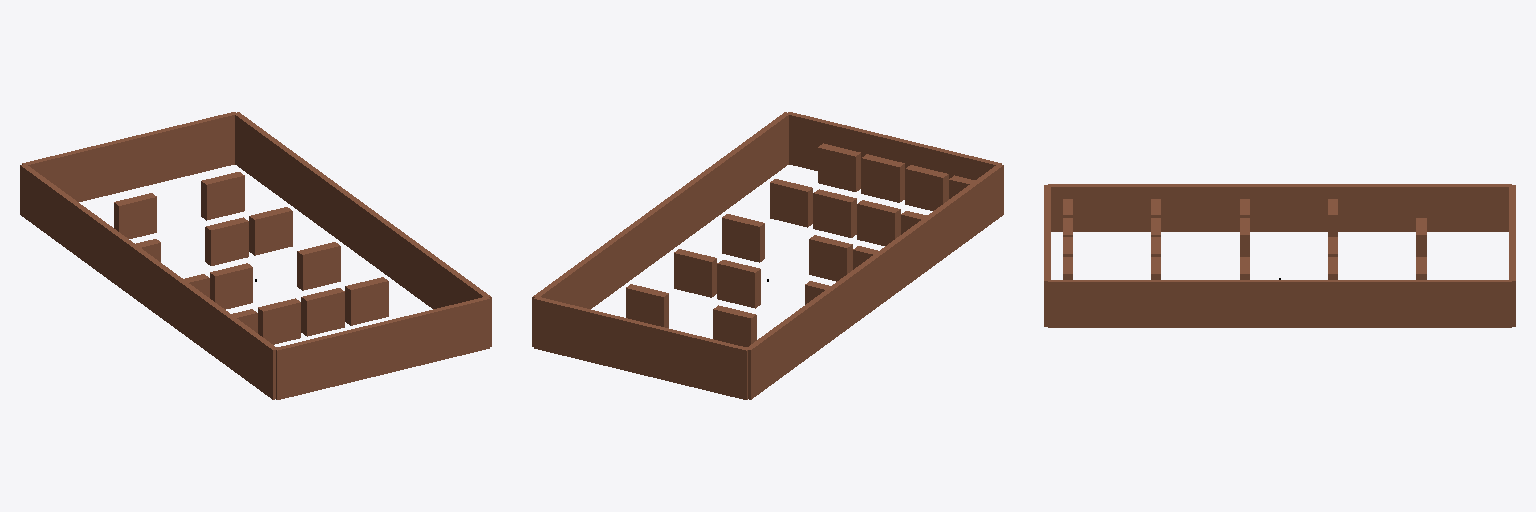
URDF robot description (supermarket):
<robot name='supermarket'>

<link name="supermarket_base">
  <visual>
    <geometry>
      <box size="0.1 0.1 0.1"/>
    </geometry>
    <material name="base_mat">
      <color rgba="0 0 0 0"/>
    </material>
    <origin xyz="0 0 0" rpy="0 0 0"/>
  </visual>
</link>


<link name="shelf_0_0">
  <visual>
    <geometry>
      <box size="2.0 0.5 1.8"/>
    </geometry>
    <material name="shelf_0_0_mat">
      <color rgba="0.6 0.4 0.3 1"/>
    </material>
  </visual>
  <collision>
    <geometry>
      <box size="2.0 0.5 1.8"/>
    </geometry>
  </collision>
</link>


<link name="shelf_0_1">
  <visual>
    <geometry>
      <box size="2.0 0.5 1.8"/>
    </geometry>
    <material name="shelf_0_1_mat">
      <color rgba="0.6 0.4 0.3 1"/>
    </material>
  </visual>
  <collision>
    <geometry>
      <box size="2.0 0.5 1.8"/>
    </geometry>
  </collision>
</link>


<link name="shelf_0_2">
  <visual>
    <geometry>
      <box size="2.0 0.5 1.8"/>
    </geometry>
    <material name="shelf_0_2_mat">
      <color rgba="0.6 0.4 0.3 1"/>
    </material>
  </visual>
  <collision>
    <geometry>
      <box size="2.0 0.5 1.8"/>
    </geometry>
  </collision>
</link>


<link name="shelf_0_3">
  <visual>
    <geometry>
      <box size="2.0 0.5 1.8"/>
    </geometry>
    <material name="shelf_0_3_mat">
      <color rgba="0.6 0.4 0.3 1"/>
    </material>
  </visual>
  <collision>
    <geometry>
      <box size="2.0 0.5 1.8"/>
    </geometry>
  </collision>
</link>


<link name="shelf_1_0">
  <visual>
    <geometry>
      <box size="2.0 0.5 1.8"/>
    </geometry>
    <material name="shelf_1_0_mat">
      <color rgba="0.6 0.4 0.3 1"/>
    </material>
  </visual>
  <collision>
    <geometry>
      <box size="2.0 0.5 1.8"/>
    </geometry>
  </collision>
</link>


<link name="shelf_1_1">
  <visual>
    <geometry>
      <box size="2.0 0.5 1.8"/>
    </geometry>
    <material name="shelf_1_1_mat">
      <color rgba="0.6 0.4 0.3 1"/>
    </material>
  </visual>
  <collision>
    <geometry>
      <box size="2.0 0.5 1.8"/>
    </geometry>
  </collision>
</link>


<link name="shelf_1_2">
  <visual>
    <geometry>
      <box size="2.0 0.5 1.8"/>
    </geometry>
    <material name="shelf_1_2_mat">
      <color rgba="0.6 0.4 0.3 1"/>
    </material>
  </visual>
  <collision>
    <geometry>
      <box size="2.0 0.5 1.8"/>
    </geometry>
  </collision>
</link>


<link name="shelf_1_3">
  <visual>
    <geometry>
      <box size="2.0 0.5 1.8"/>
    </geometry>
    <material name="shelf_1_3_mat">
      <color rgba="0.6 0.4 0.3 1"/>
    </material>
  </visual>
  <collision>
    <geometry>
      <box size="2.0 0.5 1.8"/>
    </geometry>
  </collision>
</link>


<link name="shelf_2_0">
  <visual>
    <geometry>
      <box size="2.0 0.5 1.8"/>
    </geometry>
    <material name="shelf_2_0_mat">
      <color rgba="0.6 0.4 0.3 1"/>
    </material>
  </visual>
  <collision>
    <geometry>
      <box size="2.0 0.5 1.8"/>
    </geometry>
  </collision>
</link>


<link name="shelf_2_1">
  <visual>
    <geometry>
      <box size="2.0 0.5 1.8"/>
    </geometry>
    <material name="shelf_2_1_mat">
      <color rgba="0.6 0.4 0.3 1"/>
    </material>
  </visual>
  <collision>
    <geometry>
      <box size="2.0 0.5 1.8"/>
    </geometry>
  </collision>
</link>


<link name="shelf_2_3">
  <visual>
    <geometry>
      <box size="2.0 0.5 1.8"/>
    </geometry>
    <material name="shelf_2_3_mat">
      <color rgba="0.6 0.4 0.3 1"/>
    </material>
  </visual>
  <collision>
    <geometry>
      <box size="2.0 0.5 1.8"/>
    </geometry>
  </collision>
</link>


<link name="shelf_3_0">
  <visual>
    <geometry>
      <box size="2.0 0.5 1.8"/>
    </geometry>
    <material name="shelf_3_0_mat">
      <color rgba="0.6 0.4 0.3 1"/>
    </material>
  </visual>
  <collision>
    <geometry>
      <box size="2.0 0.5 1.8"/>
    </geometry>
  </collision>
</link>


<link name="shelf_3_2">
  <visual>
    <geometry>
      <box size="2.0 0.5 1.8"/>
    </geometry>
    <material name="shelf_3_2_mat">
      <color rgba="0.6 0.4 0.3 1"/>
    </material>
  </visual>
  <collision>
    <geometry>
      <box size="2.0 0.5 1.8"/>
    </geometry>
  </collision>
</link>


<link name="shelf_3_3">
  <visual>
    <geometry>
      <box size="2.0 0.5 1.8"/>
    </geometry>
    <material name="shelf_3_3_mat">
      <color rgba="0.6 0.4 0.3 1"/>
    </material>
  </visual>
  <collision>
    <geometry>
      <box size="2.0 0.5 1.8"/>
    </geometry>
  </collision>
</link>


<link name="shelf_4_1">
  <visual>
    <geometry>
      <box size="2.0 0.5 1.8"/>
    </geometry>
    <material name="shelf_4_1_mat">
      <color rgba="0.6 0.4 0.3 1"/>
    </material>
  </visual>
  <collision>
    <geometry>
      <box size="2.0 0.5 1.8"/>
    </geometry>
  </collision>
</link>


<link name="shelf_4_3">
  <visual>
    <geometry>
      <box size="2.0 0.5 1.8"/>
    </geometry>
    <material name="shelf_4_3_mat">
      <color rgba="0.6 0.4 0.3 1"/>
    </material>
  </visual>
  <collision>
    <geometry>
      <box size="2.0 0.5 1.8"/>
    </geometry>
  </collision>
</link>


<link name="wall_front">
  <visual>
    <geometry>
      <box size="11.2 0.3 2.5"/>
    </geometry>
    <material name="wall_front_mat">
      <color rgba="0.6 0.4 0.3 1"/>
    </material>
  </visual>
  <collision>
    <geometry>
      <box size="11.2 0.3 2.5"/>
    </geometry>
  </collision>
</link>


<link name="wall_back">
  <visual>
    <geometry>
      <box size="11.2 0.3 2.5"/>
    </geometry>
    <material name="wall_back_mat">
      <color rgba="0.6 0.4 0.3 1"/>
    </material>
  </visual>
  <collision>
    <geometry>
      <box size="11.2 0.3 2.5"/>
    </geometry>
  </collision>
</link>


<link name="wall_right">
  <visual>
    <geometry>
      <box size="0.3 23.0 2.5"/>
    </geometry>
    <material name="wall_right_mat">
      <color rgba="0.6 0.4 0.3 1"/>
    </material>
  </visual>
  <collision>
    <geometry>
      <box size="0.3 23.0 2.5"/>
    </geometry>
  </collision>
</link>


<link name="wall_left">
  <visual>
    <geometry>
      <box size="0.3 23.0 2.5"/>
    </geometry>
    <material name="wall_left_mat">
      <color rgba="0.6 0.4 0.3 1"/>
    </material>
  </visual>
  <collision>
    <geometry>
      <box size="0.3 23.0 2.5"/>
    </geometry>
  </collision>
</link>

<joint name="joint_shelf_0_0" type="fixed">
  <parent link="supermarket_base"/>
  <child link="shelf_0_0"/>
  <origin xyz="-4.6 -10.5 0.9" rpy="0 0 0"/>
</joint>


<joint name="joint_shelf_0_1" type="fixed">
  <parent link="supermarket_base"/>
  <child link="shelf_0_1"/>
  <origin xyz="-2.3 -10.5 0.9" rpy="0 0 0"/>
</joint>


<joint name="joint_shelf_0_2" type="fixed">
  <parent link="supermarket_base"/>
  <child link="shelf_0_2"/>
  <origin xyz="0.0 -10.5 0.9" rpy="0 0 0"/>
</joint>


<joint name="joint_shelf_0_3" type="fixed">
  <parent link="supermarket_base"/>
  <child link="shelf_0_3"/>
  <origin xyz="2.3 -10.5 0.9" rpy="0 0 0"/>
</joint>


<joint name="joint_shelf_1_0" type="fixed">
  <parent link="supermarket_base"/>
  <child link="shelf_1_0"/>
  <origin xyz="-4.6 -6.125 0.9" rpy="0 0 0"/>
</joint>


<joint name="joint_shelf_1_1" type="fixed">
  <parent link="supermarket_base"/>
  <child link="shelf_1_1"/>
  <origin xyz="-2.3 -6.125 0.9" rpy="0 0 0"/>
</joint>


<joint name="joint_shelf_1_2" type="fixed">
  <parent link="supermarket_base"/>
  <child link="shelf_1_2"/>
  <origin xyz="0.0 -6.125 0.9" rpy="0 0 0"/>
</joint>


<joint name="joint_shelf_1_3" type="fixed">
  <parent link="supermarket_base"/>
  <child link="shelf_1_3"/>
  <origin xyz="2.3 -6.125 0.9" rpy="0 0 0"/>
</joint>


<joint name="joint_shelf_2_0" type="fixed">
  <parent link="supermarket_base"/>
  <child link="shelf_2_0"/>
  <origin xyz="-4.6 -1.75 0.9" rpy="0 0 0"/>
</joint>


<joint name="joint_shelf_2_1" type="fixed">
  <parent link="supermarket_base"/>
  <child link="shelf_2_1"/>
  <origin xyz="-2.3 -1.75 0.9" rpy="0 0 0"/>
</joint>


<joint name="joint_shelf_2_3" type="fixed">
  <parent link="supermarket_base"/>
  <child link="shelf_2_3"/>
  <origin xyz="2.3 -1.75 0.9" rpy="0 0 0"/>
</joint>


<joint name="joint_shelf_3_0" type="fixed">
  <parent link="supermarket_base"/>
  <child link="shelf_3_0"/>
  <origin xyz="-4.6 2.625 0.9" rpy="0 0 0"/>
</joint>


<joint name="joint_shelf_3_2" type="fixed">
  <parent link="supermarket_base"/>
  <child link="shelf_3_2"/>
  <origin xyz="0.0 2.625 0.9" rpy="0 0 0"/>
</joint>


<joint name="joint_shelf_3_3" type="fixed">
  <parent link="supermarket_base"/>
  <child link="shelf_3_3"/>
  <origin xyz="2.3 2.625 0.9" rpy="0 0 0"/>
</joint>


<joint name="joint_shelf_4_1" type="fixed">
  <parent link="supermarket_base"/>
  <child link="shelf_4_1"/>
  <origin xyz="-2.3 7.0 0.9" rpy="0 0 0"/>
</joint>


<joint name="joint_shelf_4_3" type="fixed">
  <parent link="supermarket_base"/>
  <child link="shelf_4_3"/>
  <origin xyz="2.3 7.0 0.9" rpy="0 0 0"/>
</joint>


<joint name="joint_wall_front" type="fixed">
  <parent link="supermarket_base"/>
  <child link="wall_front"/>
  <origin xyz="0 11.5 1.25" rpy="0 0 0"/>
</joint>


<joint name="joint_wall_back" type="fixed">
  <parent link="supermarket_base"/>
  <child link="wall_back"/>
  <origin xyz="0 -11.5 1.25" rpy="0 0 0"/>
</joint>


<joint name="joint_wall_right" type="fixed">
  <parent link="supermarket_base"/>
  <child link="wall_right"/>
  <origin xyz="5.6 0 1.25" rpy="0 0 0"/>
</joint>


<joint name="joint_wall_left" type="fixed">
  <parent link="supermarket_base"/>
  <child link="wall_left"/>
  <origin xyz="-5.6 0 1.25" rpy="0 0 0"/>
</joint>

</robot>

--- Facts derived from the render (not from the file) ---
The picture shows the robot from 3 angles, left to right: view 1: azimuth 30°, elevation 25°; view 2: azimuth 150°, elevation 25°; view 3: azimuth 270°, elevation 25°; orthographic projection.
Model supermarket with 21 links and 20 joints (20 fixed), rooted at supermarket_base, posed all joints at 0.
Links seen in each view (by area): view 1: wall_left, wall_right, wall_back, wall_front, shelf_2_3, shelf_1_2, shelf_1_3, shelf_4_3, shelf_3_2, shelf_3_3, shelf_2_1, shelf_4_1 (+1 smaller); view 2: wall_left, wall_right, wall_front, wall_back, shelf_1_2, shelf_0_2, shelf_3_2, shelf_2_3, shelf_0_3, shelf_3_3, shelf_1_3, shelf_0_1 (+4 smaller); view 3: wall_right, wall_left, wall_front, wall_back.
Link boxes in pixels (box(x1,y1,x2,y2)): wall_left: box(20, 165, 276, 399); wall_right: box(235, 112, 491, 346); wall_back: box(274, 296, 489, 399); wall_front: box(22, 112, 235, 201); shelf_2_3: box(297, 242, 340, 290); shelf_1_2: box(301, 288, 344, 336); shelf_1_3: box(345, 277, 388, 325); shelf_4_3: box(201, 172, 244, 220); shelf_3_2: box(205, 217, 248, 265); shelf_3_3: box(249, 207, 292, 255); shelf_2_1: box(210, 263, 252, 309); shelf_4_1: box(114, 193, 156, 238); wall_left: box(747, 165, 1003, 399); wall_right: box(532, 112, 789, 346); wall_front: box(534, 297, 749, 399); wall_back: box(788, 112, 1001, 179); shelf_1_2: box(813, 189, 856, 237); shelf_0_2: box(861, 154, 904, 202); shelf_3_2: box(717, 260, 760, 308); shelf_2_3: box(722, 214, 764, 262); shelf_0_3: box(818, 143, 860, 191); shelf_3_3: box(674, 249, 716, 297); shelf_1_3: box(770, 179, 812, 227); shelf_0_1: box(905, 165, 948, 210); wall_right: box(1048, 280, 1511, 327); wall_left: box(1048, 184, 1511, 231); wall_front: box(1509, 185, 1515, 326); wall_back: box(1044, 185, 1050, 326).
Bounding box of the posed robot: 11.5 × 23.3 × 2.55 m (x, y, z).
Geometry: primitives only (box / cylinder / sphere), no mesh files.
